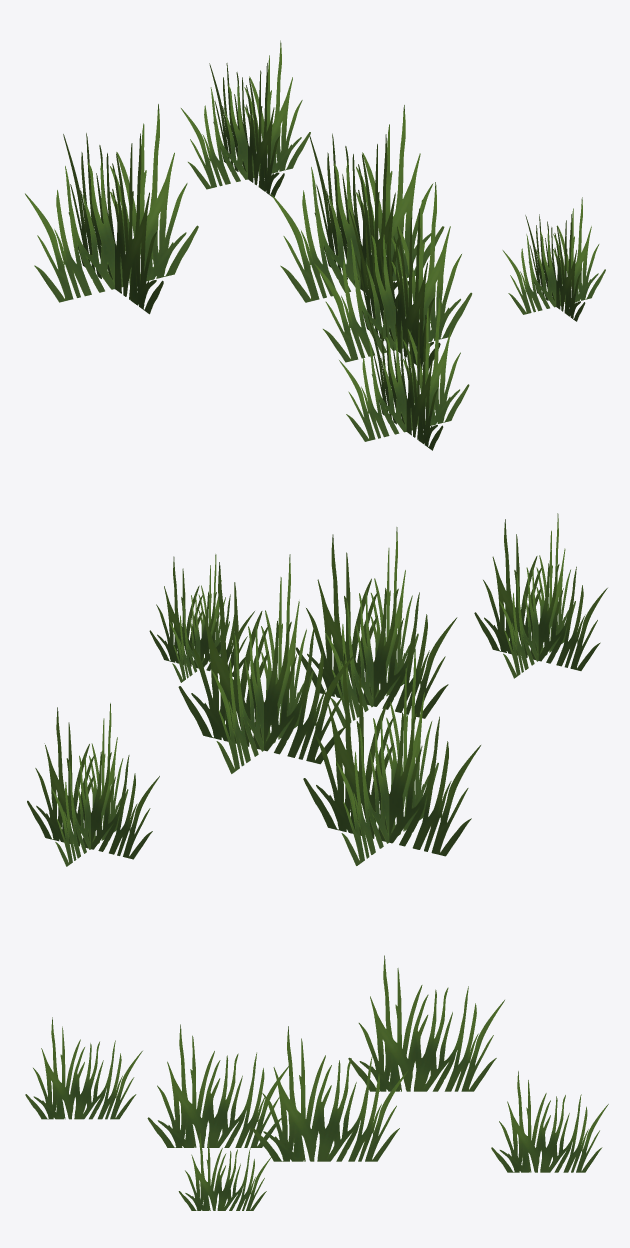
File: sc_glass02.FBX
3 views of the same model, one above another, from view 1: azimuth 30°, elevation 25°; view 2: azimuth 150°, elevation 25°; view 3: azimuth 270°, elevation 25° (orthographic). The views are drawn at different scales.
Visible parts, largest first — view 1: sc_glass02; view 2: sc_glass02; view 3: sc_glass02.
Part boxes in pixels (box(x1,y1,x2,y2)): sc_glass02: box(25, 40, 605, 450); sc_glass02: box(27, 513, 607, 866); sc_glass02: box(25, 955, 608, 1210).
Size of the model in its own units: 228 by 81.95 by 322.
